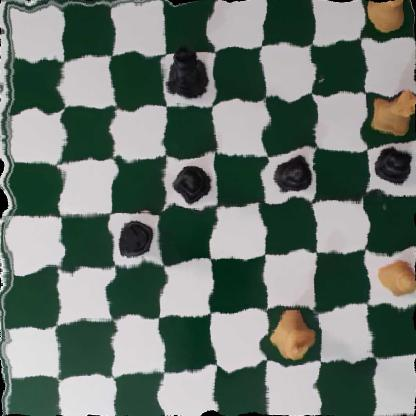black-king: (164, 46, 208, 104)
black-pawn: (372, 141, 414, 186), (274, 154, 311, 197), (173, 164, 212, 203)
black-rook: (113, 217, 159, 263)
white-bishop: (363, 0, 413, 29)
white-king: (269, 306, 313, 358)
white-pawn: (376, 254, 416, 297)
white-rook: (368, 88, 416, 136)
